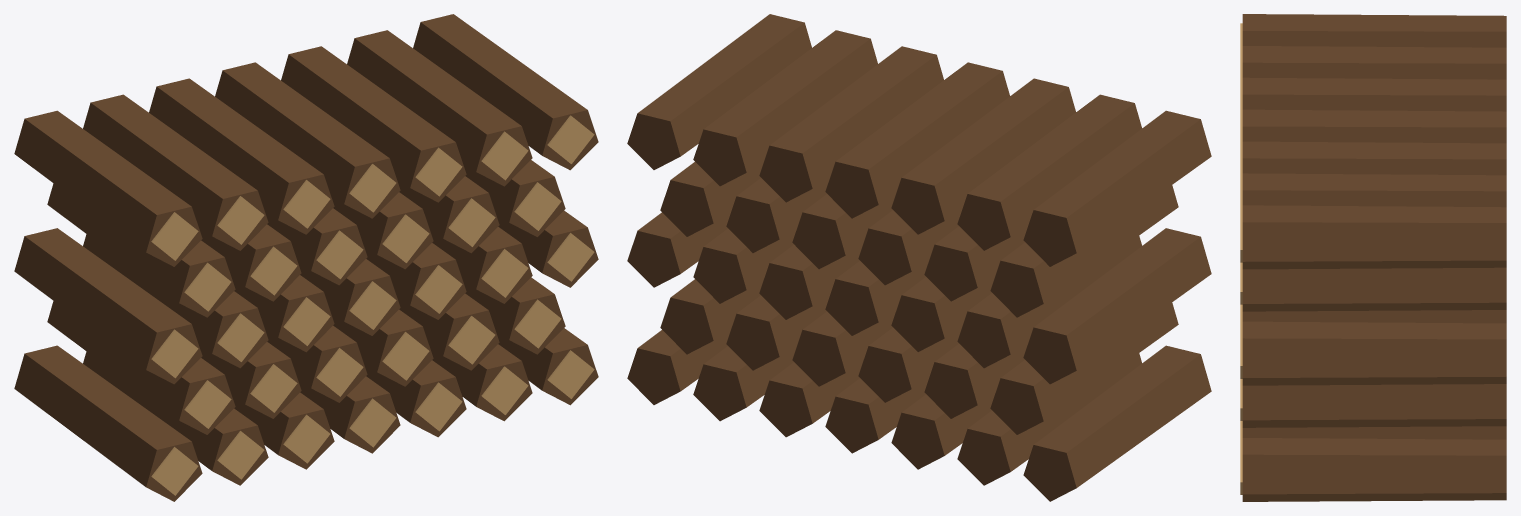
File: pile_firewood_3.glb
3 views of the same model, side by side, from view 1: azimuth 30°, elevation 25°; view 2: azimuth 150°, elevation 25°; view 3: azimuth 270°, elevation 25° (orthographic).
Visible parts, largest first — view 1: pile_firewood_3; view 2: pile_firewood_3; view 3: pile_firewood_3.
Boxes of the visible parts, x1,y1,x2,y2 form: pile_firewood_3: (14,14,598,501); pile_firewood_3: (627,14,1211,501); pile_firewood_3: (1240,14,1506,501).
Bounding box in the file's own units: 1.37 × 0.8428 × 0.706.
